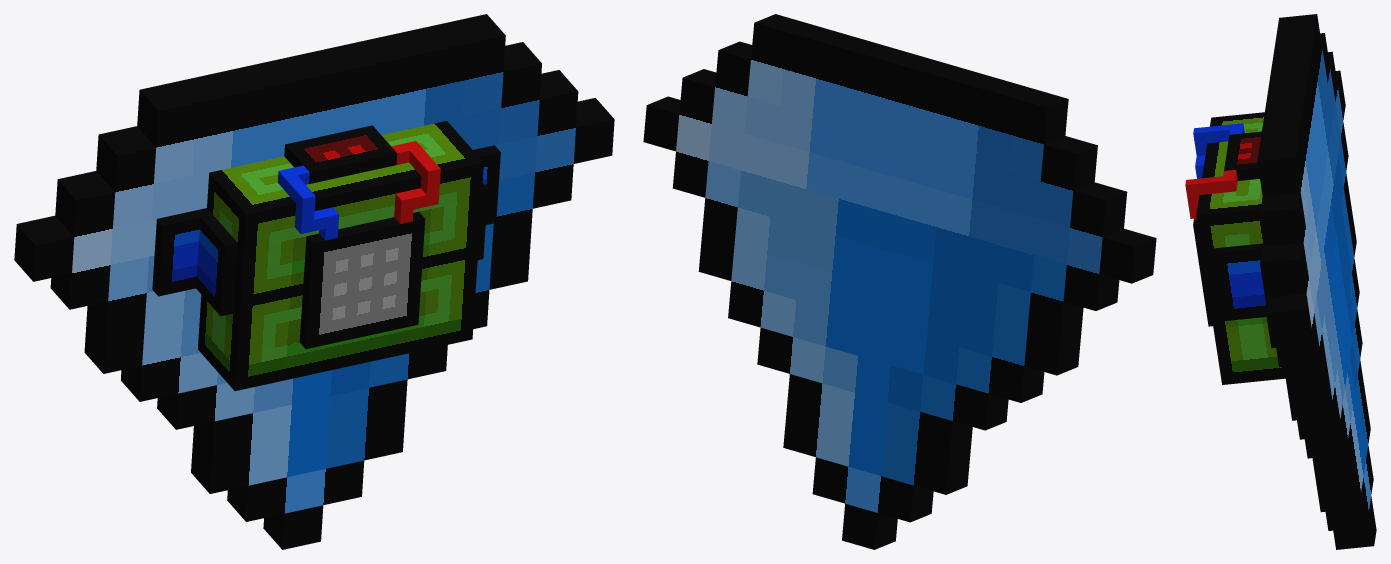
File: gadget_fakebonus_preview.fbx
3 renders of one model, left to right at view 1: azimuth 30°, elevation 25°; view 2: azimuth 150°, elevation 25°; view 3: azimuth 270°, elevation 25°, orthographic. The views are drawn at different scales.
Parts seen in each view (by area): view 1: gadget_fakebonus_preview; view 2: gadget_fakebonus_preview; view 3: gadget_fakebonus_preview.
Boxes of the visible parts, x1,y1,x2,y2 form: gadget_fakebonus_preview: (14, 14, 614, 549); gadget_fakebonus_preview: (643, 14, 1156, 549); gadget_fakebonus_preview: (1185, 14, 1376, 549).
Bounding box in the file's own units: 181 × 157 × 59.79.
1 material, 1 textured.
